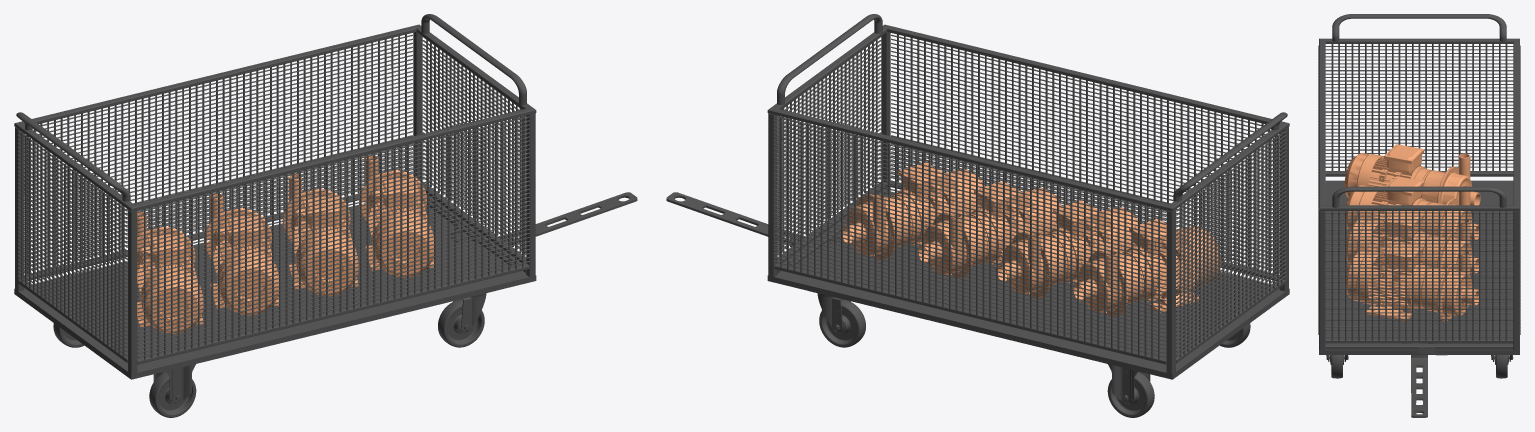
File: amr50-trolley.glb
3 renders of one model, left to right at view 1: azimuth 30°, elevation 25°; view 2: azimuth 150°, elevation 25°; view 3: azimuth 270°, elevation 25°, orthographic. The views are drawn at different scales.
Visible parts, largest first — view 1: Trolley, Components (×3); view 2: Trolley, Components (×3); view 3: Trolley, Components (×3).
Part boxes in pixels (x1,y1,x2,y2): Trolley: (14, 14, 637, 417); Components (×3): (127, 155, 433, 333); Trolley: (666, 14, 1289, 417); Components (×3): (843, 162, 1221, 316); Trolley: (1318, 14, 1520, 417); Components (×3): (1344, 144, 1480, 321).
Size of the model in its own units: 1.06 by 0.4447 by 0.3785.
